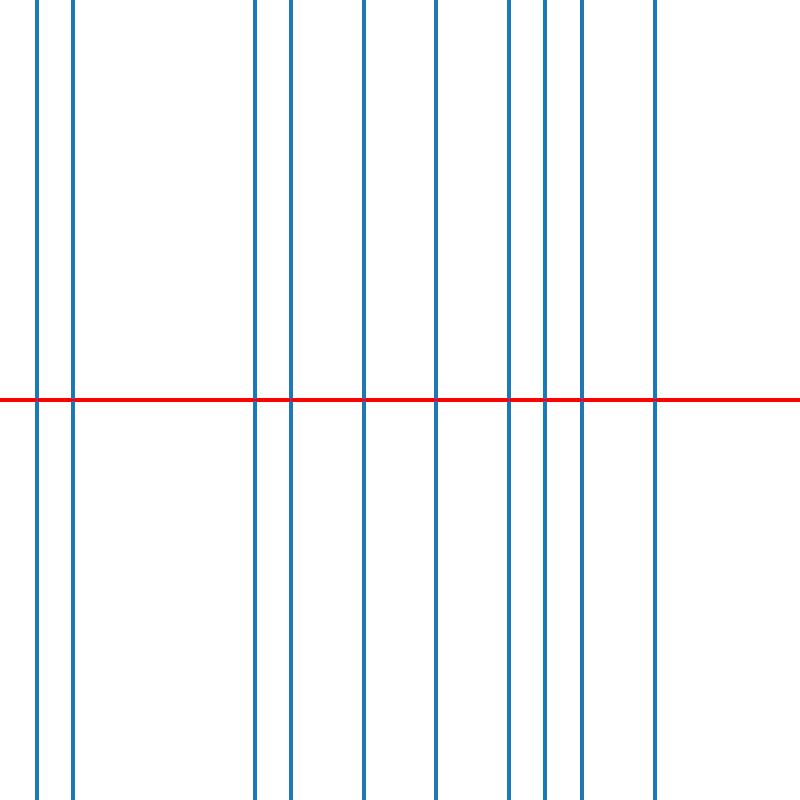root: (541, 396, 549, 404), (32, 396, 40, 404), (250, 396, 258, 404), (432, 396, 440, 404), (650, 396, 658, 404), (578, 396, 585, 404), (360, 396, 367, 404), (505, 396, 512, 404), (287, 396, 294, 404), (69, 396, 76, 404)
